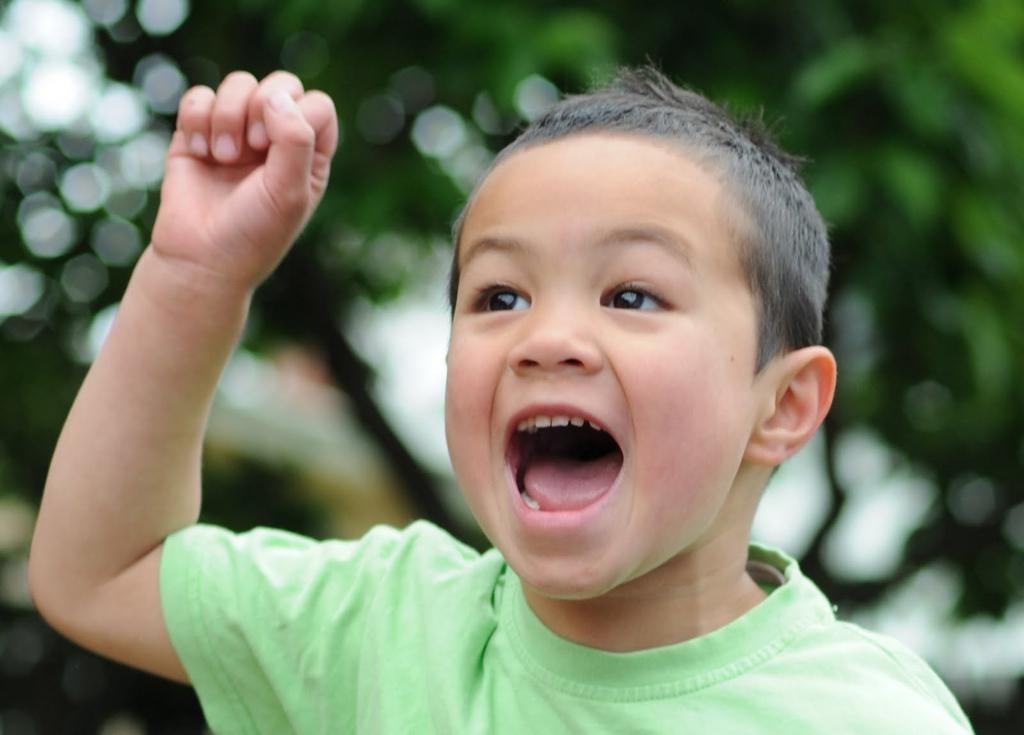face: (443, 141, 755, 597)
